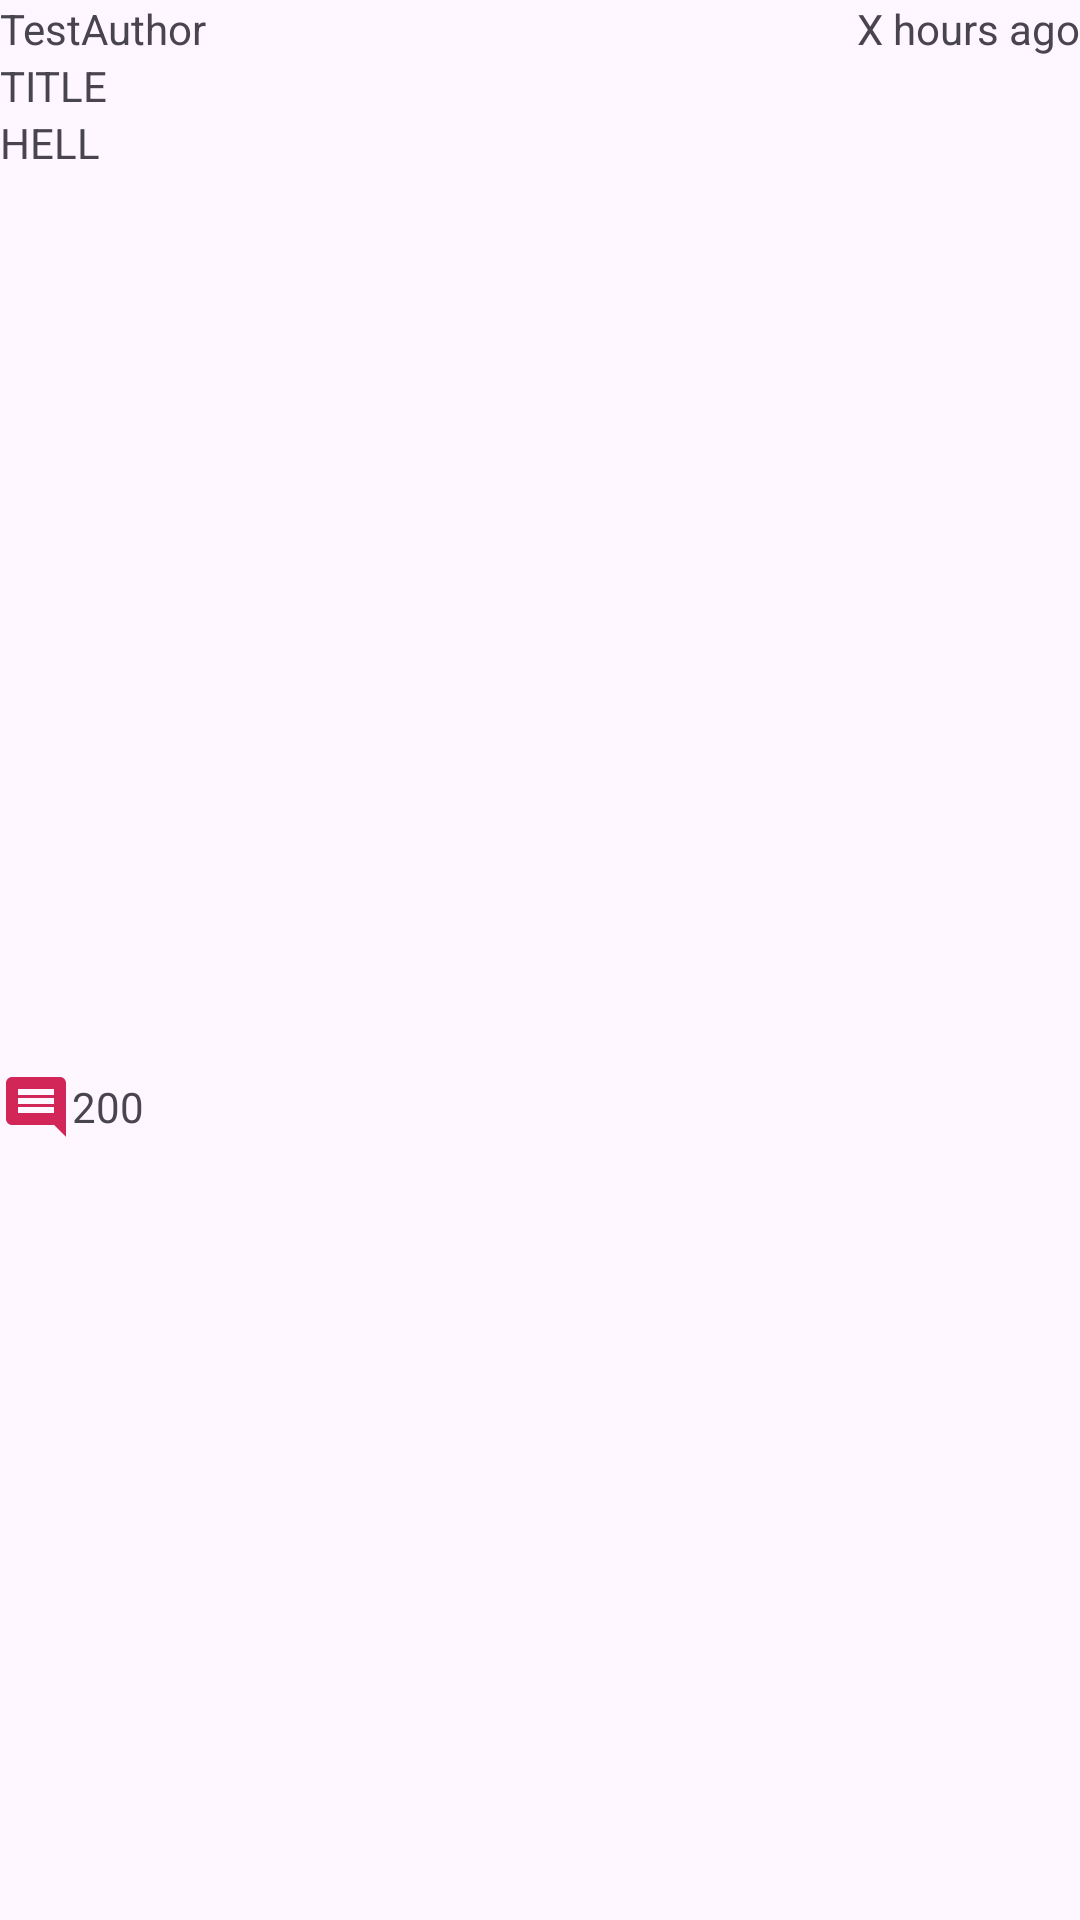

Locate icon controls on the screen. Image size 1080x1920, boxes as [x1,y1,x2,y2].
comment: [6,1077,66,1137]
